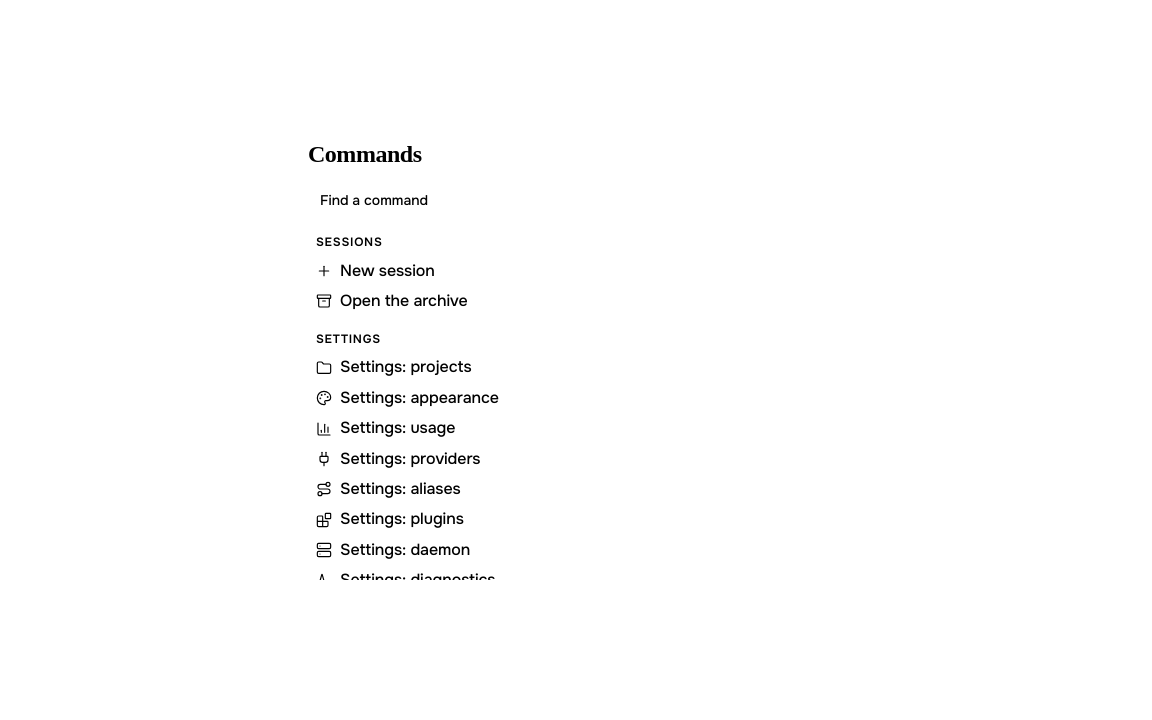
it: the command palette › says so when nothing goes by that name
Type "nothing of the sort" into the dropdown labelled "Find a command" at coordinates (576, 200), box x1=308 y1=185 x2=844 y2=216
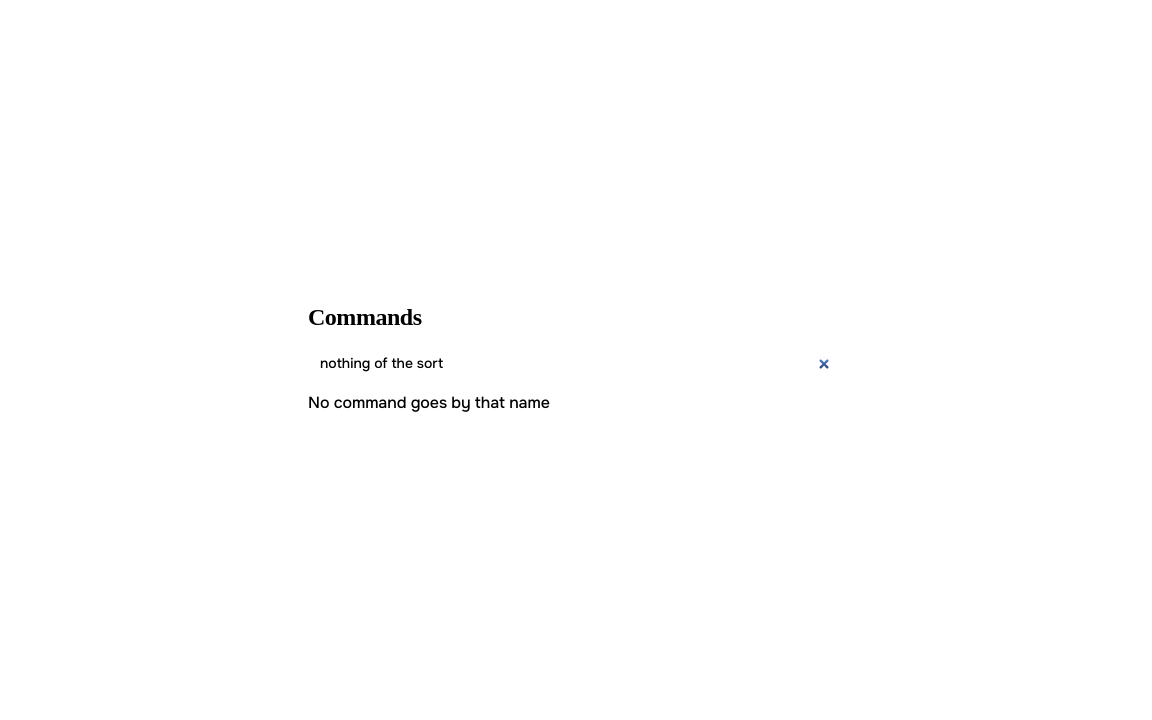
Result: the text "No command goes by that name" is shown at x1=308 y1=392 x2=550 y2=413
